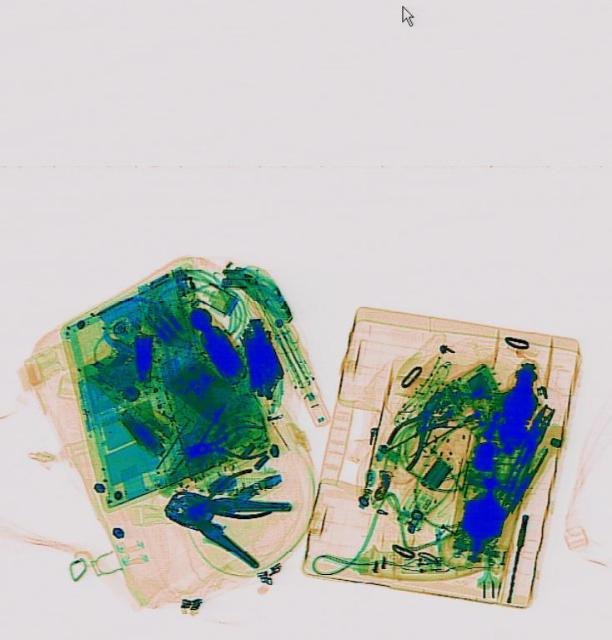Pliers: (152, 462, 293, 572), (375, 378, 457, 472), (177, 462, 274, 538), (171, 422, 267, 468)
